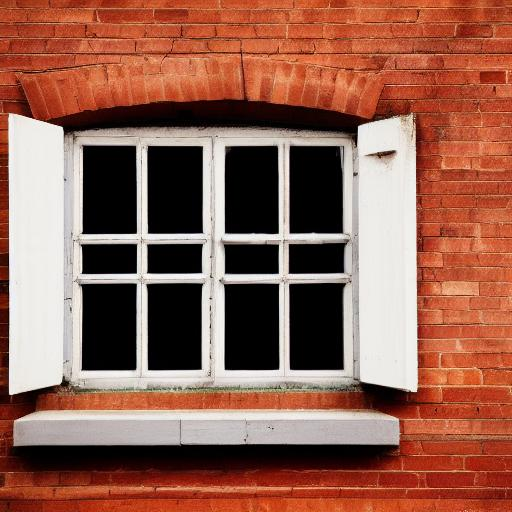Window: (3, 57, 423, 456)
